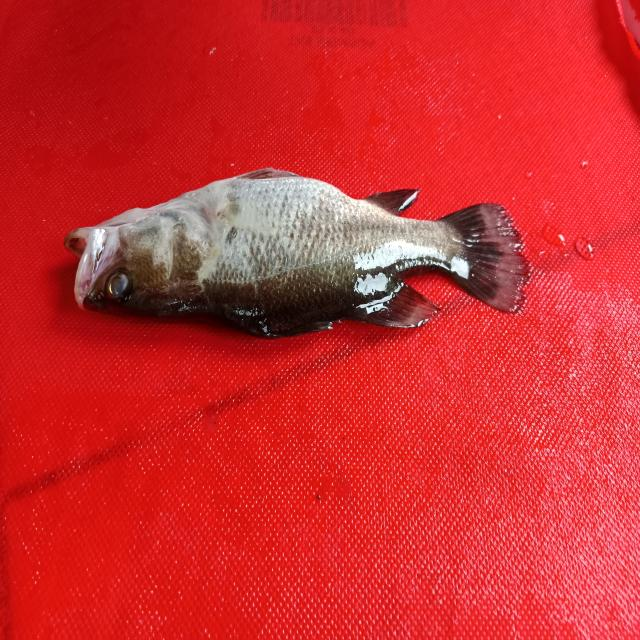ikan: (52, 134, 557, 360)
